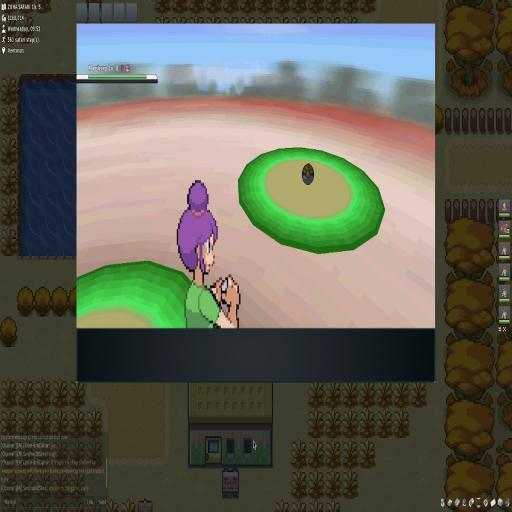SUCESSFULCAPTURE: (302, 163, 314, 186)
